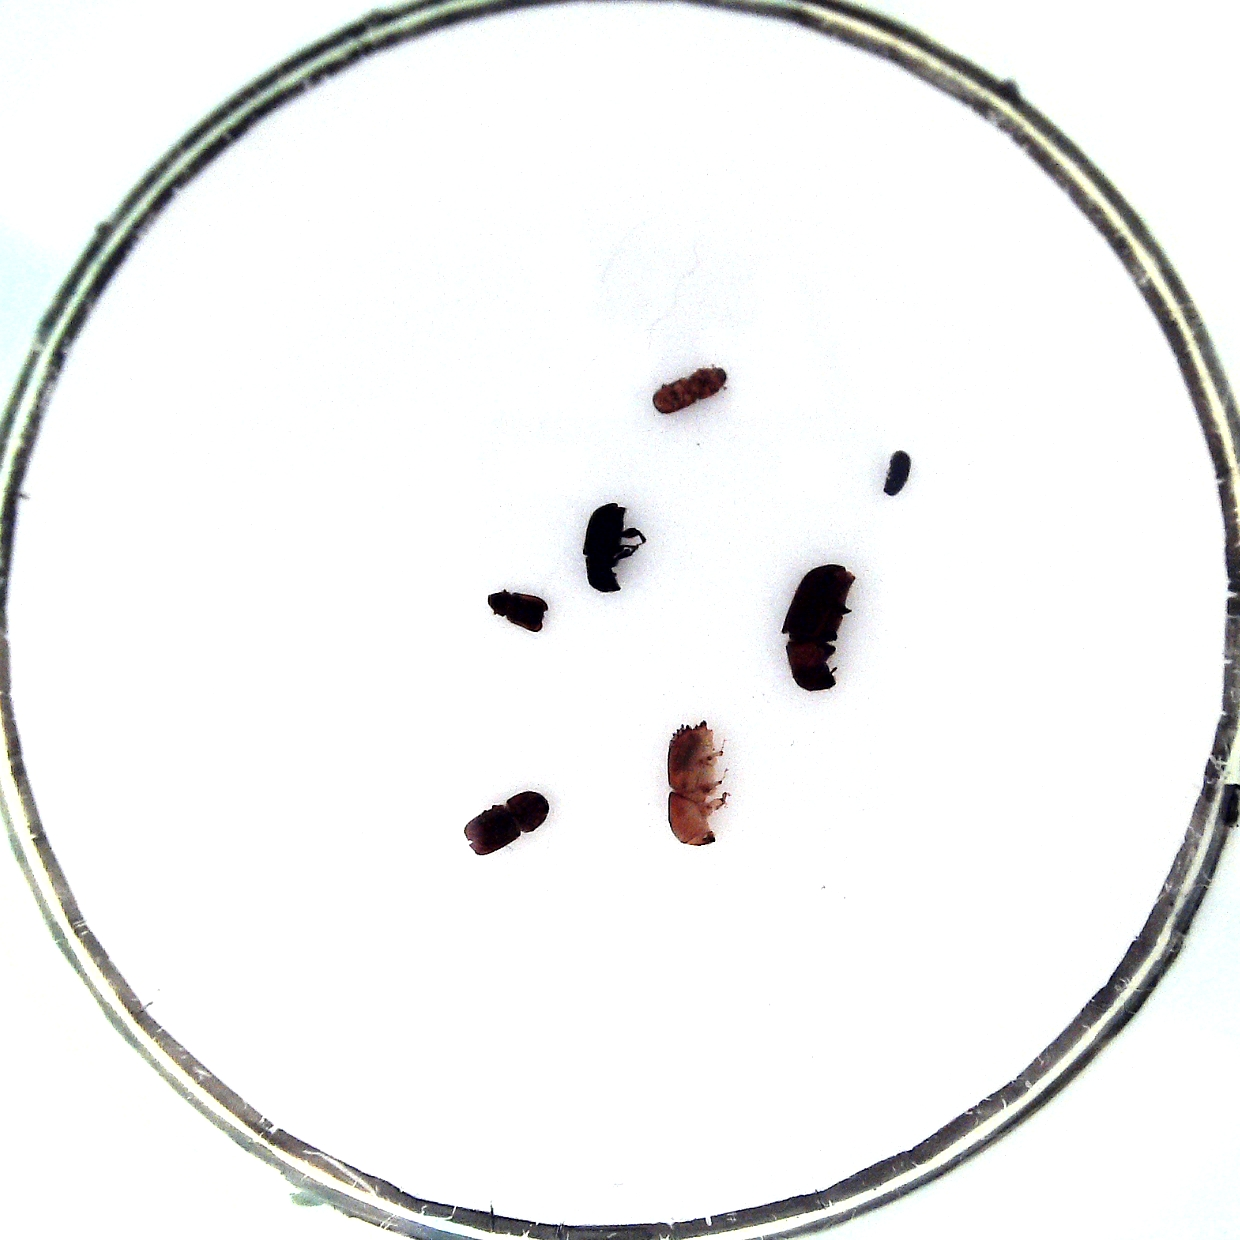Boerner: (667, 721, 723, 845)
Leconte: (782, 564, 854, 692)
acuminatus: (883, 449, 911, 496)
armandi: (583, 502, 627, 592)
coleoptera: (653, 368, 727, 413), (487, 589, 548, 632)
linnaeus: (464, 790, 548, 855)
